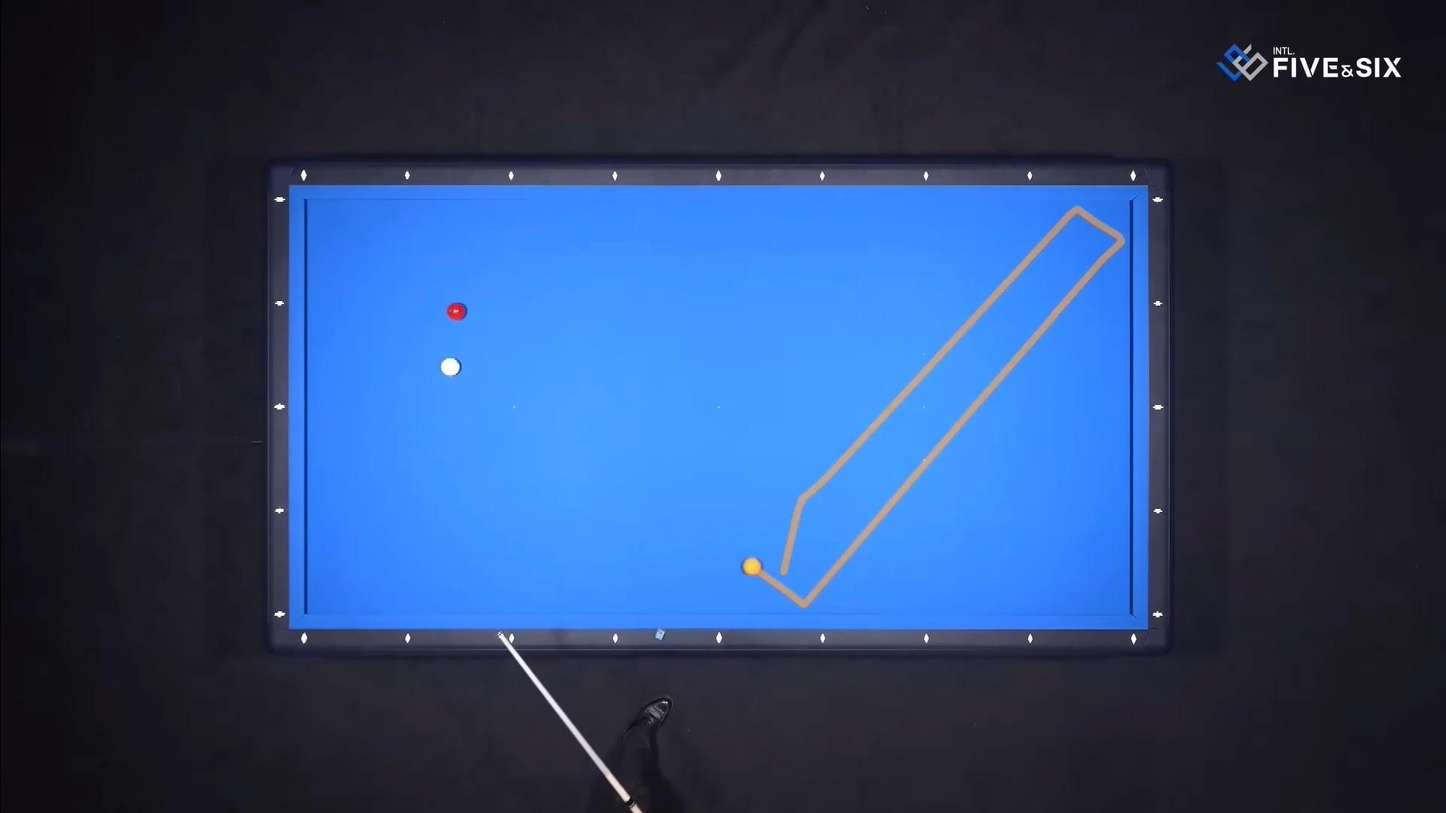Red: (446, 304, 471, 323)
White: (436, 357, 461, 377)
Yellow: (739, 559, 762, 578)
